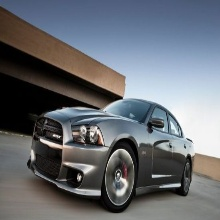no damage: (26, 98, 192, 210)
